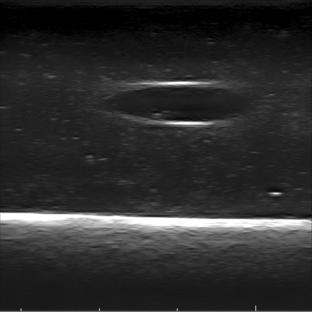vessel: (110, 80, 249, 128)
